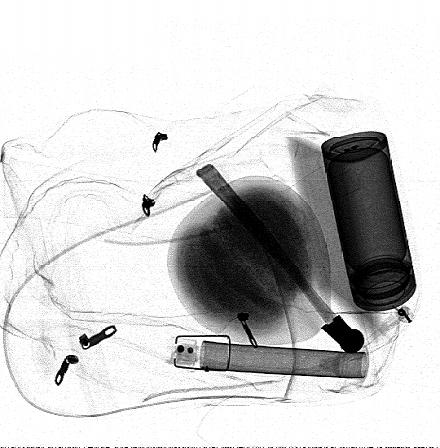Hammer: (195, 164, 365, 354)
